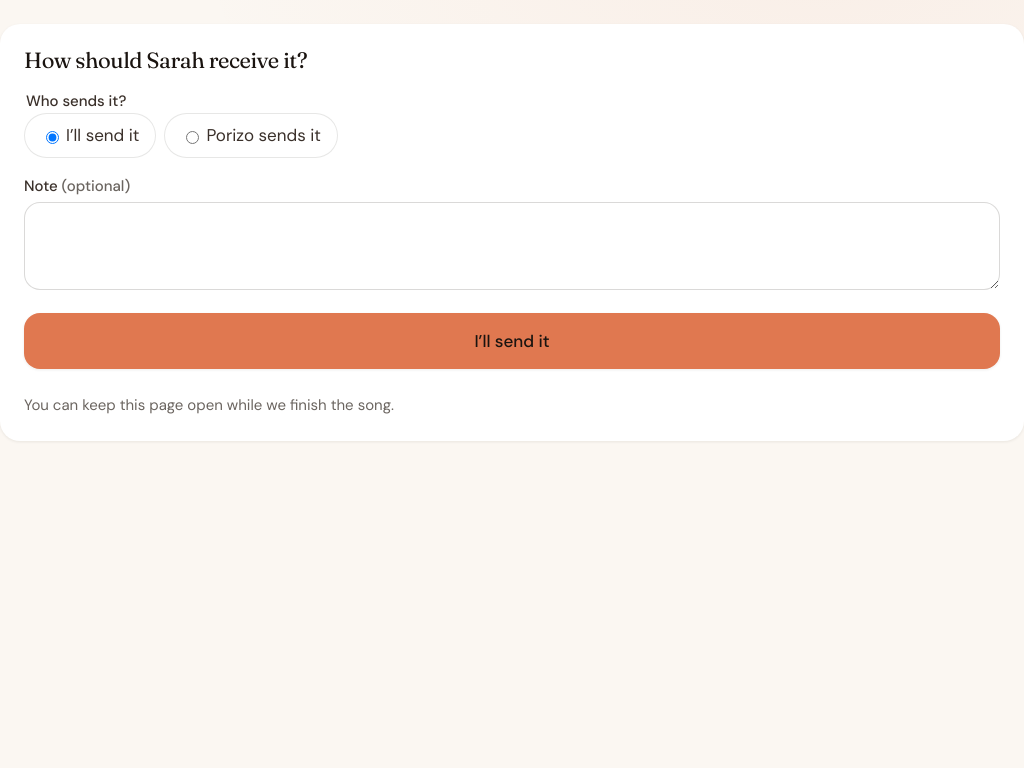
Test: delivery chooser › validates automated delivery only after sender ownership is chosen
Click the radio button labelled "Porizo sends it". click: (193,137)
box: [186,131,200,144]
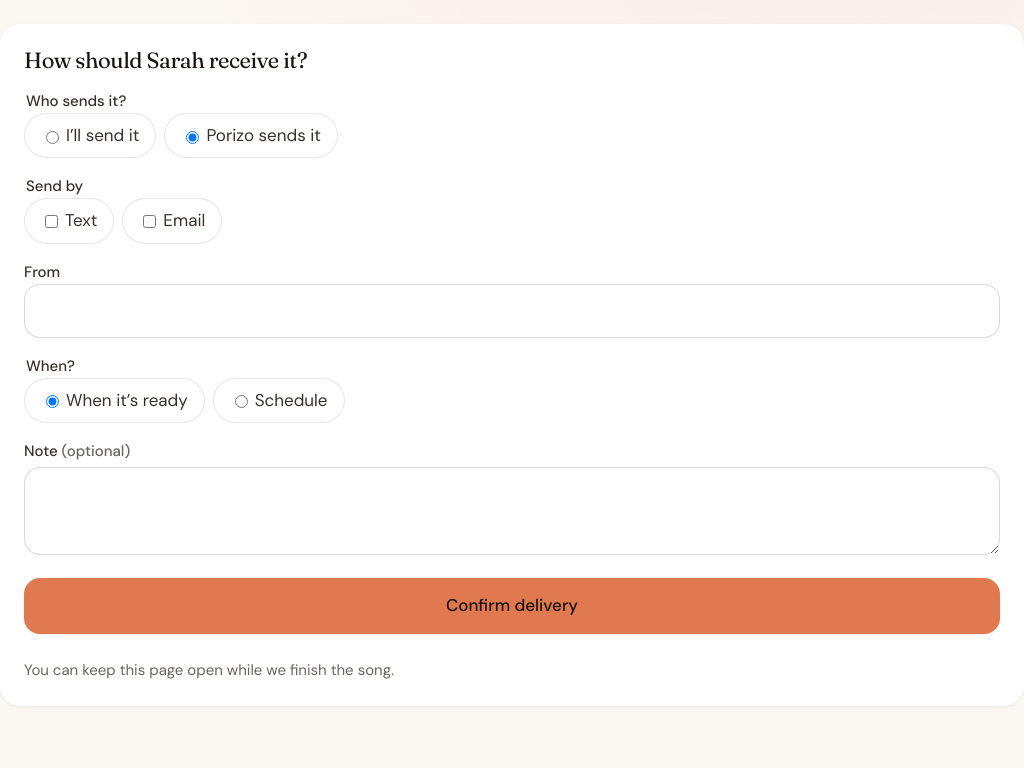
Click the button "Confirm delivery". click: (512,606)
box: [24,578,1000,634]
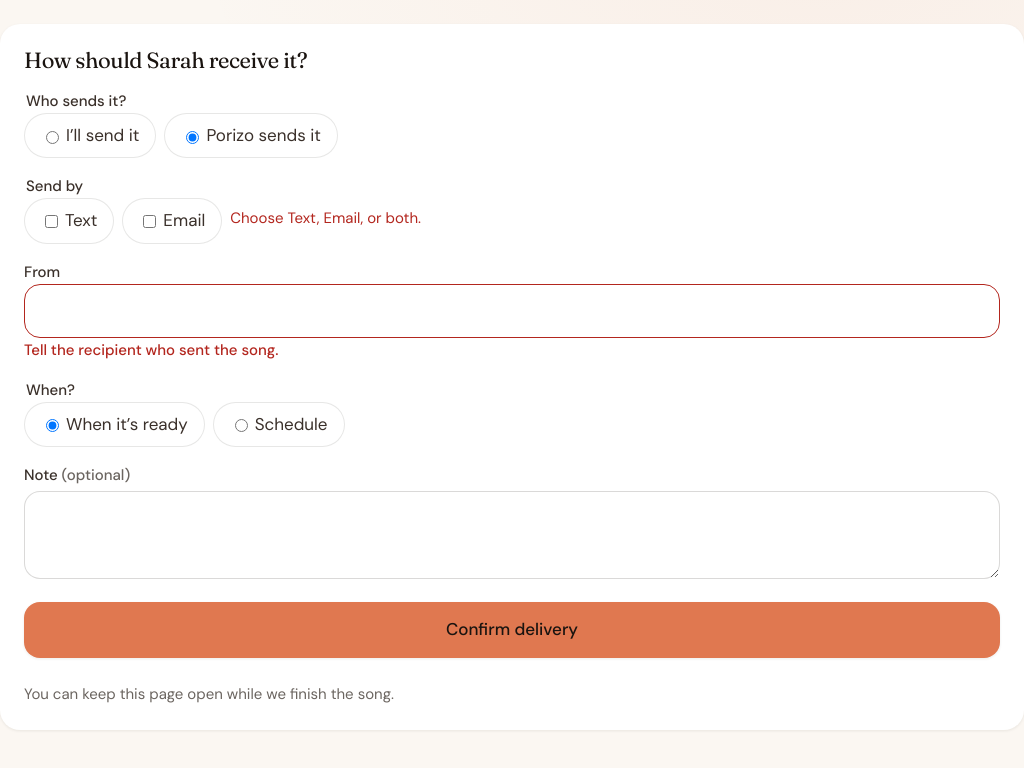
Now the text "Choose Text, Email, or both." is shown, box [230,208,421,228]
